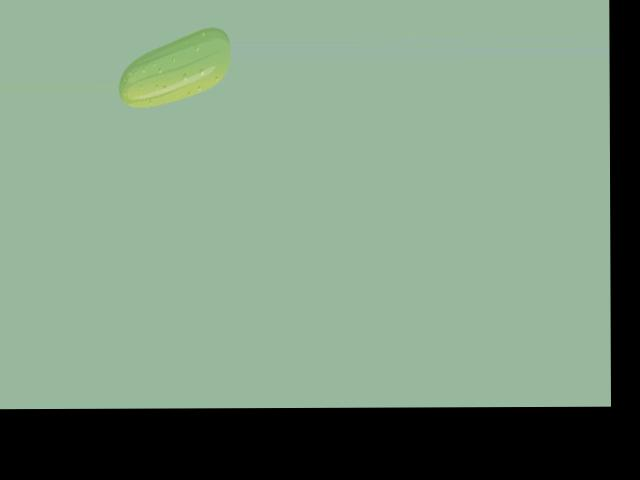cucumber: (118, 27, 230, 107)
